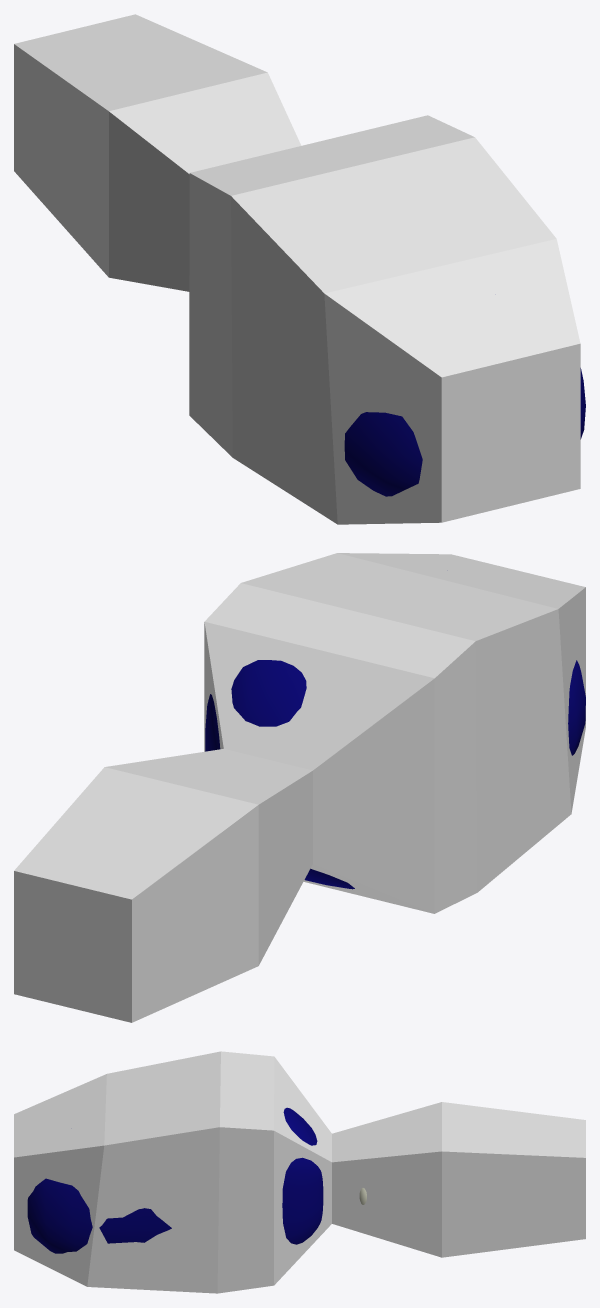
File: RayBlaster.glb
3 views of the same model, one above another, from view 1: azimuth 30°, elevation 25°; view 2: azimuth 150°, elevation 25°; view 3: azimuth 270°, elevation 25° (orthographic). The views are drawn at different scales.
Parts seen in each view (by area): view 1: Blaster_rigid, Blaster; view 2: Blaster_rigid, Blaster; view 3: Blaster_rigid, Blaster.
Part boxes in pixels (<box>): Blaster_rigid: <box>14,14,580,524</box>; Blaster: <box>344,368,585,496</box>; Blaster_rigid: <box>14,553,585,1022</box>; Blaster: <box>205,660,585,889</box>; Blaster_rigid: <box>14,1051,585,1293</box>; Blaster: <box>27,1107,366,1253</box>.
Bounding box in the file's own units: 0.132 × 0.1352 × 0.421.
